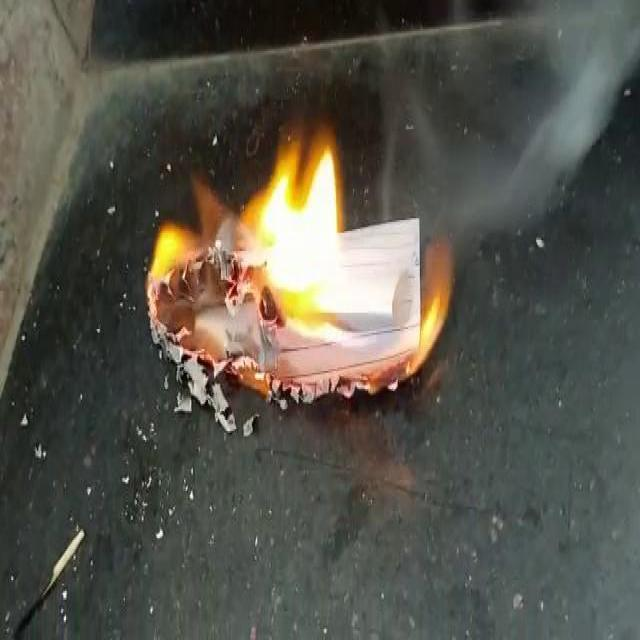Fire: (146, 129, 458, 400)
